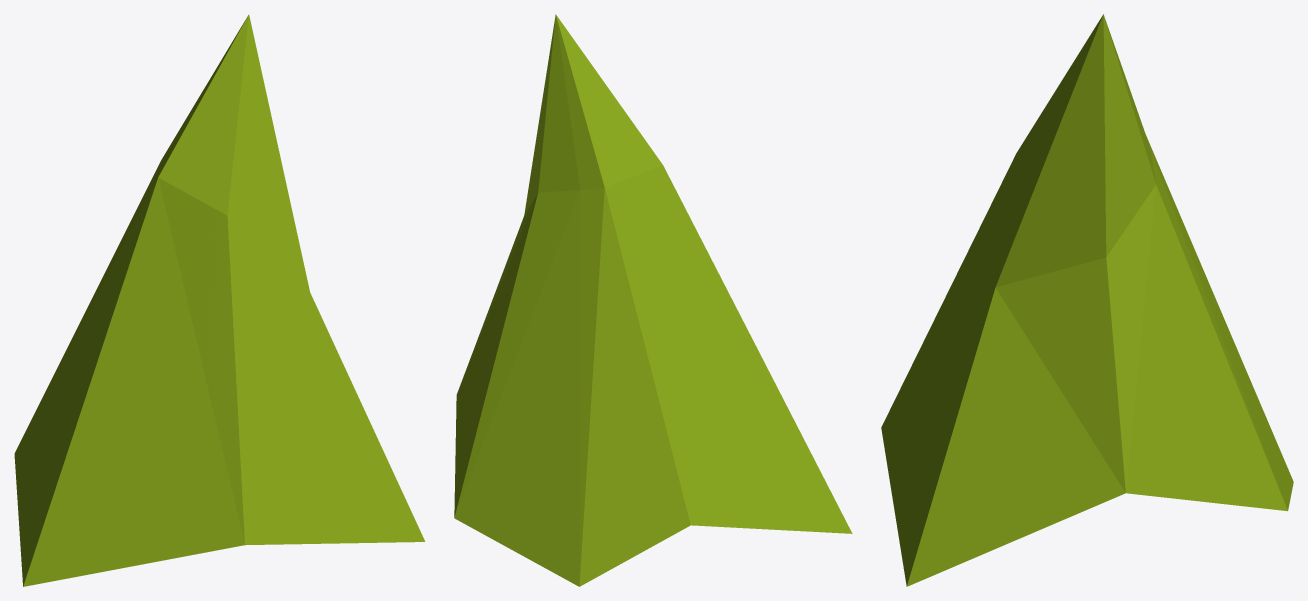
Rendered from Vegetation_Modular_Tree_Foliage_Alpine_Piece_01.fbx.
3 renders of one model, left to right at view 1: azimuth 30°, elevation 25°; view 2: azimuth 150°, elevation 25°; view 3: azimuth 270°, elevation 25°, orthographic. The views are drawn at different scales.
Parts seen in each view (by area): view 1: Vegetation_Modular_Tree_Foliage_Alpine_Piece_01; view 2: Vegetation_Modular_Tree_Foliage_Alpine_Piece_01; view 3: Vegetation_Modular_Tree_Foliage_Alpine_Piece_01.
Boxes of the visible parts, bbox=[...] form: Vegetation_Modular_Tree_Foliage_Alpine_Piece_01: bbox=[14, 14, 425, 586]; Vegetation_Modular_Tree_Foliage_Alpine_Piece_01: bbox=[454, 14, 852, 586]; Vegetation_Modular_Tree_Foliage_Alpine_Piece_01: bbox=[881, 14, 1293, 586].
Bounding box in the file's own units: 1112 × 1463 × 1038.
